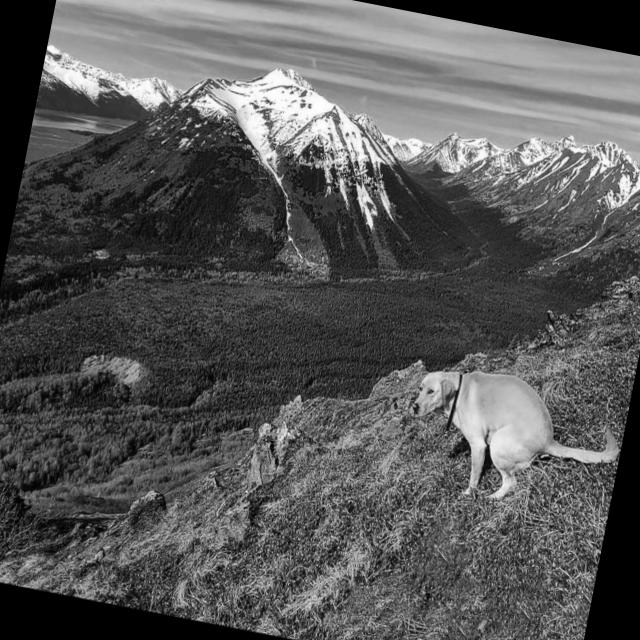squatting: (396, 334, 635, 524)
